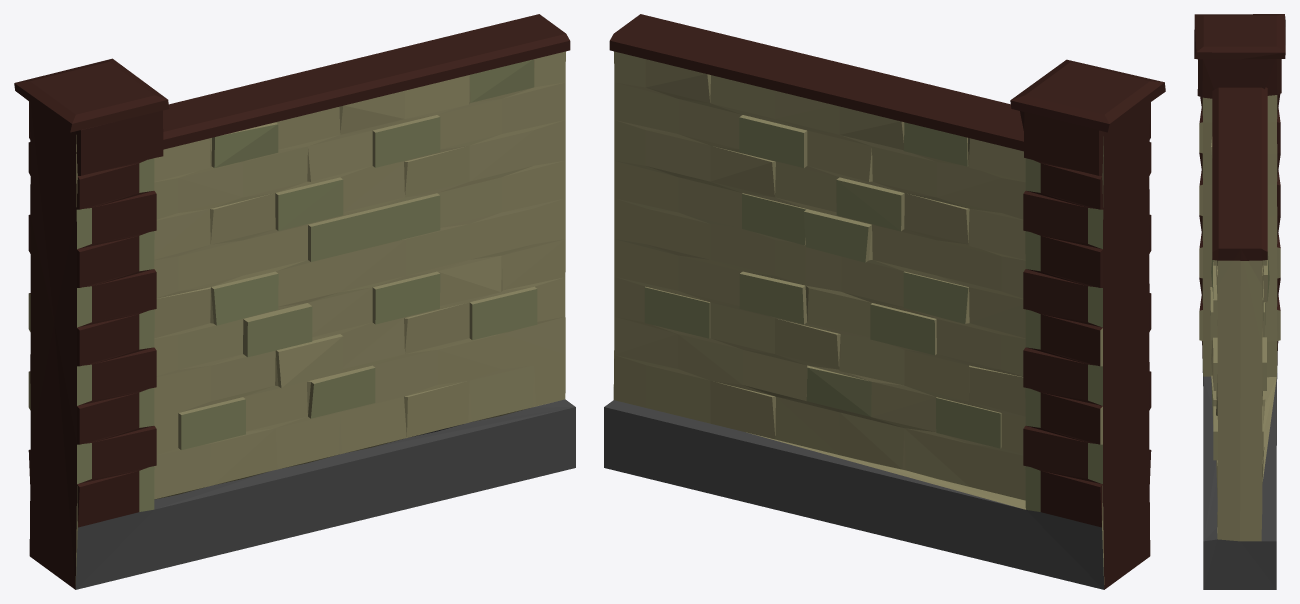
The model's file is wall.glb.
3 views of the same model, side by side, from view 1: azimuth 30°, elevation 25°; view 2: azimuth 150°, elevation 25°; view 3: azimuth 270°, elevation 25° (orthographic). The views are drawn at different scales.
Parts seen in each view (by area): view 1: general_low; view 2: general_low; view 3: general_low.
Boxes of the visible parts, box(x1,y1,x2,y2) form: general_low: box(14, 14, 575, 589); general_low: box(604, 14, 1165, 589); general_low: box(1194, 14, 1285, 589).
Size of the model in its own units: 8.3 by 7.38 by 1.61.
